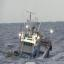fishing boat: (8, 0, 53, 61)
